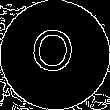O_S: (30, 27, 80, 83)
